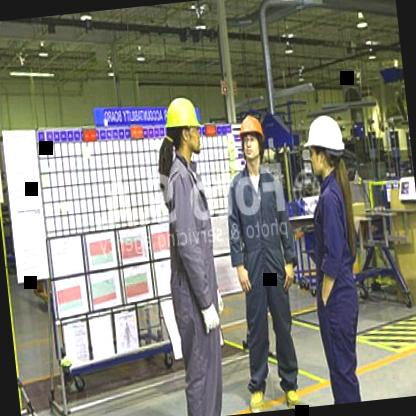helmet: (298, 107, 351, 188), (160, 88, 208, 164), (229, 108, 272, 172)
